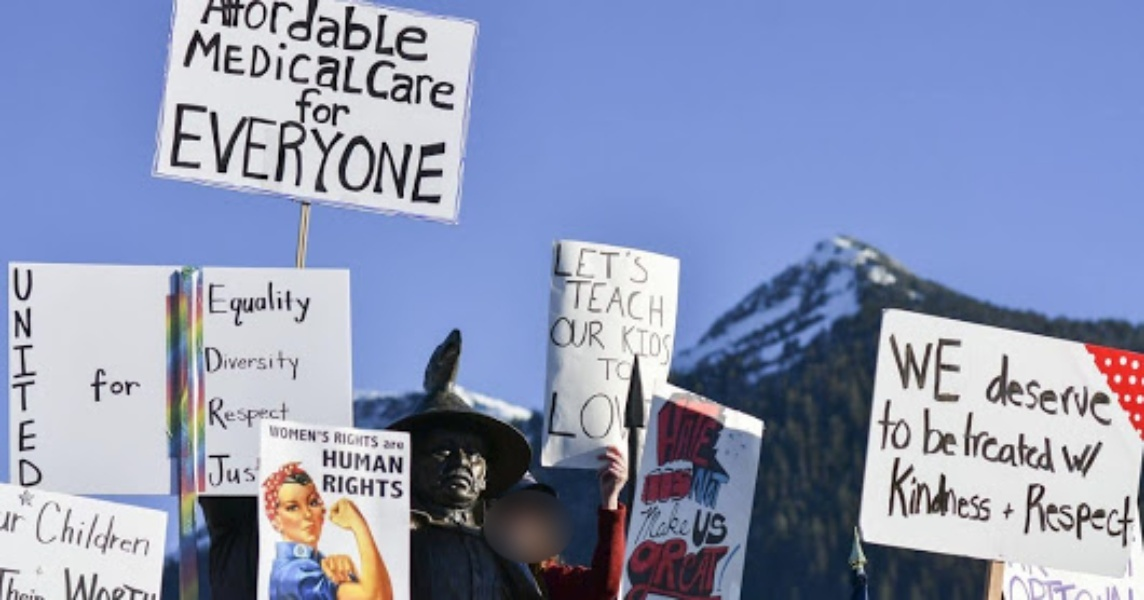text: (17, 266, 32, 488), (33, 266, 44, 488), (177, 100, 192, 212), (193, 100, 208, 212), (209, 100, 224, 212), (225, 100, 240, 212), (241, 100, 256, 212), (257, 100, 272, 212), (273, 100, 288, 212), (289, 100, 304, 212), (305, 100, 320, 212), (321, 100, 336, 212), (337, 100, 352, 212), (353, 100, 368, 212), (369, 100, 384, 212), (385, 100, 400, 212), (401, 100, 416, 212), (417, 100, 432, 212), (433, 100, 447, 212), (9, 266, 16, 488), (993, 346, 1008, 430), (1009, 346, 1024, 430), (1025, 346, 1040, 430), (1041, 346, 1056, 430), (1057, 346, 1072, 430), (1073, 346, 1088, 430), (1089, 346, 1104, 430), (657, 395, 672, 471), (673, 395, 688, 471), (689, 395, 704, 471), (705, 395, 720, 471), (897, 333, 912, 406), (913, 333, 928, 406), (929, 333, 944, 406), (945, 333, 960, 406), (897, 454, 912, 525), (913, 454, 928, 525), (929, 454, 944, 525), (945, 454, 960, 525), (961, 454, 976, 525), (977, 454, 992, 525), (193, 29, 208, 98), (209, 29, 224, 98), (225, 29, 240, 98), (241, 29, 256, 98), (257, 29, 272, 98), (273, 29, 288, 98), (289, 29, 304, 98), (305, 29, 320, 98), (321, 29, 336, 98), (337, 29, 352, 98), (49, 499, 64, 568), (65, 499, 80, 568), (81, 499, 96, 568), (97, 499, 112, 568), (113, 499, 128, 568), (129, 499, 144, 568), (977, 408, 992, 473), (993, 408, 1008, 473), (1009, 408, 1024, 473), (1025, 408, 1040, 473), (257, 1, 272, 65), (273, 1, 288, 65), (289, 1, 304, 65), (305, 1, 320, 65), (321, 1, 336, 65), (337, 1, 352, 65), (353, 1, 368, 65), (369, 1, 384, 65), (385, 1, 400, 65), (401, 1, 416, 65), (1041, 480, 1056, 544), (1057, 480, 1072, 544), (1073, 480, 1088, 544), (1089, 480, 1104, 544), (1105, 480, 1120, 544), (1121, 480, 1136, 544), (641, 538, 656, 600), (657, 538, 672, 600), (673, 538, 688, 600), (689, 538, 704, 600), (705, 538, 720, 600), (145, 499, 158, 568), (1026, 480, 1040, 544), (963, 408, 976, 473), (1041, 408, 1054, 473), (561, 387, 576, 443), (577, 387, 592, 443), (593, 387, 608, 443), (417, 1, 430, 65), (385, 59, 400, 113), (401, 59, 416, 113), (417, 59, 432, 113), (433, 59, 448, 113), (881, 398, 896, 452), (577, 272, 592, 324), (593, 272, 608, 324), (609, 272, 624, 324), (625, 272, 640, 324), (641, 272, 656, 324), (929, 404, 944, 456), (1105, 346, 1114, 430), (897, 398, 911, 452), (945, 404, 959, 456), (353, 29, 363, 98), (689, 462, 704, 508), (705, 462, 720, 508), (673, 501, 689, 544), (657, 272, 670, 324), (209, 281, 224, 326), (225, 281, 240, 326), (241, 281, 256, 326), (257, 281, 272, 326), (273, 281, 288, 326), (289, 281, 304, 326), (372, 59, 384, 113), (561, 242, 576, 285), (577, 242, 592, 285), (593, 242, 608, 285), (609, 242, 624, 285), (625, 242, 640, 285), (641, 501, 656, 544), (657, 501, 672, 544), (564, 272, 576, 324), (305, 87, 320, 128), (321, 87, 336, 128), (337, 87, 352, 128), (705, 508, 720, 549), (721, 462, 734, 508), (97, 365, 112, 404), (113, 365, 128, 404), (625, 324, 640, 363), (641, 324, 656, 363), (657, 324, 672, 363), (888, 333, 896, 406), (247, 1, 256, 65), (721, 538, 730, 600), (209, 395, 224, 432), (225, 395, 240, 432), (241, 395, 256, 432), (257, 395, 272, 432), (273, 395, 288, 432), (129, 365, 143, 404), (241, 454, 257, 488), (1073, 439, 1088, 475), (1, 562, 16, 598), (17, 562, 32, 598), (33, 562, 48, 598), (65, 566, 80, 600), (81, 566, 96, 600), (97, 566, 112, 600), (113, 566, 128, 600), (129, 566, 144, 600), (225, 454, 240, 488), (209, 346, 224, 380), (225, 346, 240, 380), (241, 346, 256, 380), (257, 346, 272, 380), (273, 346, 288, 380), (657, 469, 672, 503), (673, 469, 688, 503), (551, 387, 560, 443), (1089, 439, 1103, 475), (449, 59, 458, 113), (561, 318, 576, 350), (577, 318, 592, 350), (210, 454, 224, 488), (642, 469, 656, 503), (693, 508, 704, 549), (321, 447, 336, 477), (337, 447, 352, 477), (353, 447, 368, 477), (369, 447, 384, 477), (385, 447, 400, 477), (593, 318, 607, 350), (145, 566, 158, 600), (633, 538, 640, 600), (337, 473, 352, 501), (353, 473, 368, 501), (369, 473, 384, 501), (385, 473, 400, 501), (609, 357, 624, 385), (42, 499, 48, 568), (289, 346, 301, 380), (322, 473, 336, 501), (594, 357, 608, 385), (641, 242, 650, 285), (721, 508, 730, 549), (305, 281, 313, 326), (273, 421, 288, 445), (289, 421, 304, 445), (305, 421, 320, 445), (337, 428, 352, 452), (353, 428, 368, 452), (1062, 439, 1072, 475), (1009, 575, 1024, 598), (1025, 575, 1040, 598), (1041, 575, 1056, 598), (1057, 575, 1072, 598), (1073, 575, 1088, 598), (1089, 575, 1104, 598), (1105, 575, 1120, 598), (173, 100, 176, 212), (625, 357, 637, 385), (553, 242, 560, 285), (961, 333, 965, 406), (892, 454, 896, 525), (609, 387, 614, 443), (188, 29, 192, 98), (89, 365, 96, 404), (875, 398, 880, 452), (369, 428, 380, 452), (1121, 575, 1132, 598), (989, 346, 992, 430), (385, 436, 400, 452), (321, 421, 331, 445), (689, 469, 696, 503), (721, 395, 724, 471), (553, 318, 560, 350), (17, 510, 26, 534), (993, 454, 996, 525), (924, 404, 928, 456), (203, 346, 208, 380), (9, 510, 16, 534), (637, 501, 640, 544), (301, 87, 304, 128), (1009, 503, 1015, 523), (61, 566, 64, 600), (268, 421, 272, 445), (401, 447, 404, 477), (401, 473, 404, 501), (1004, 503, 1008, 523), (622, 324, 624, 363), (655, 395, 656, 471), (333, 428, 336, 452), (401, 436, 404, 452), (1006, 575, 1008, 598), (289, 395, 290, 432), (49, 562, 50, 598), (383, 436, 384, 452)
